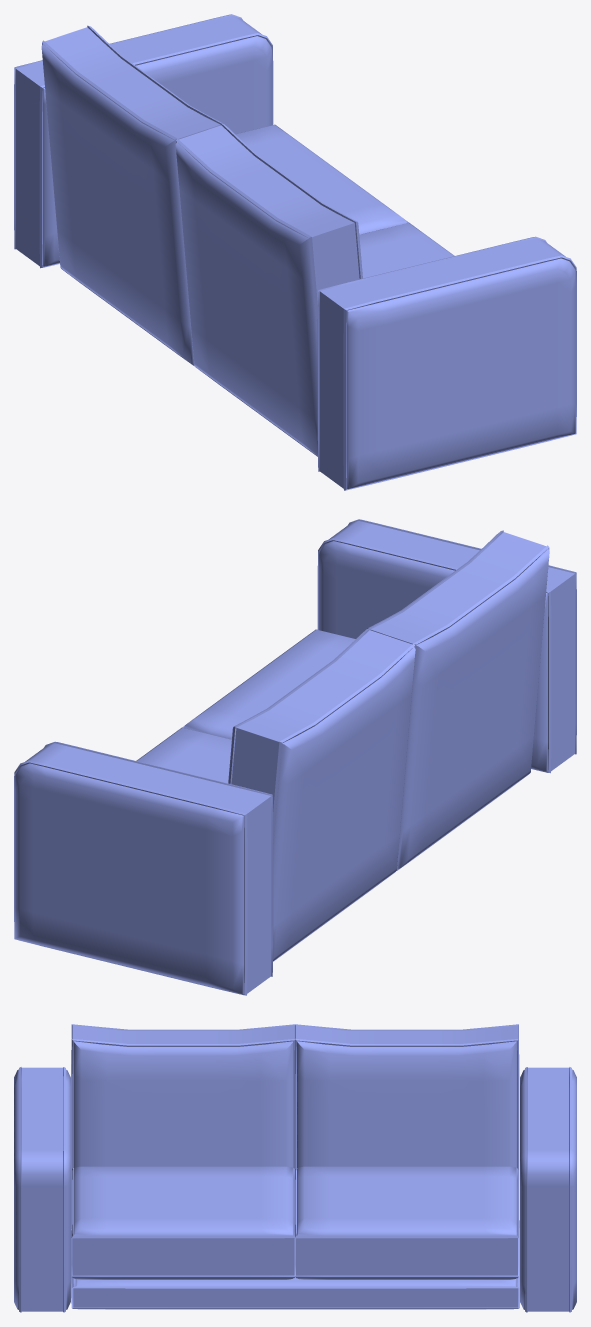
Rendered from ソファ.fbx.
3 renders of one model, top to bottom at view 1: azimuth 30°, elevation 25°; view 2: azimuth 150°, elevation 25°; view 3: azimuth 270°, elevation 25°, orthographic. The views are drawn at different scales.
Parts seen in each view (by area): view 1: 平面.001, 平面.002, 平面.003, 平面; view 2: 平面.001, 平面.003, 平面.002, 平面; view 3: 平面.001, 平面, 平面.002, 平面.003, 平面.004.
Boxes of the visible parts, x1,y1,x2,y2 form: 平面.001: [41, 25, 362, 456]; 平面.002: [317, 236, 576, 490]; 平面.003: [14, 14, 273, 268]; 平面: [235, 124, 454, 278]; 平面.001: [228, 530, 549, 961]; 平面.003: [14, 741, 273, 995]; 平面.002: [317, 519, 576, 773]; 平面: [136, 629, 355, 783]; 平面.001: [71, 1024, 519, 1179]; 平面: [71, 1166, 519, 1279]; 平面.002: [14, 1067, 70, 1312]; 平面.003: [520, 1067, 576, 1312]; 平面.004: [71, 1220, 520, 1309].
Size of the model in its own units: 162 by 152 by 392.
